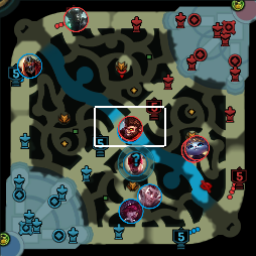leesin: (124, 153, 147, 176)
monkeyking: (117, 115, 142, 140)
mordekaiser: (63, 6, 88, 32)
rakan: (137, 184, 162, 208)
xayah: (119, 198, 143, 223)
yuumi: (184, 135, 209, 159)
zed: (17, 53, 42, 78)
